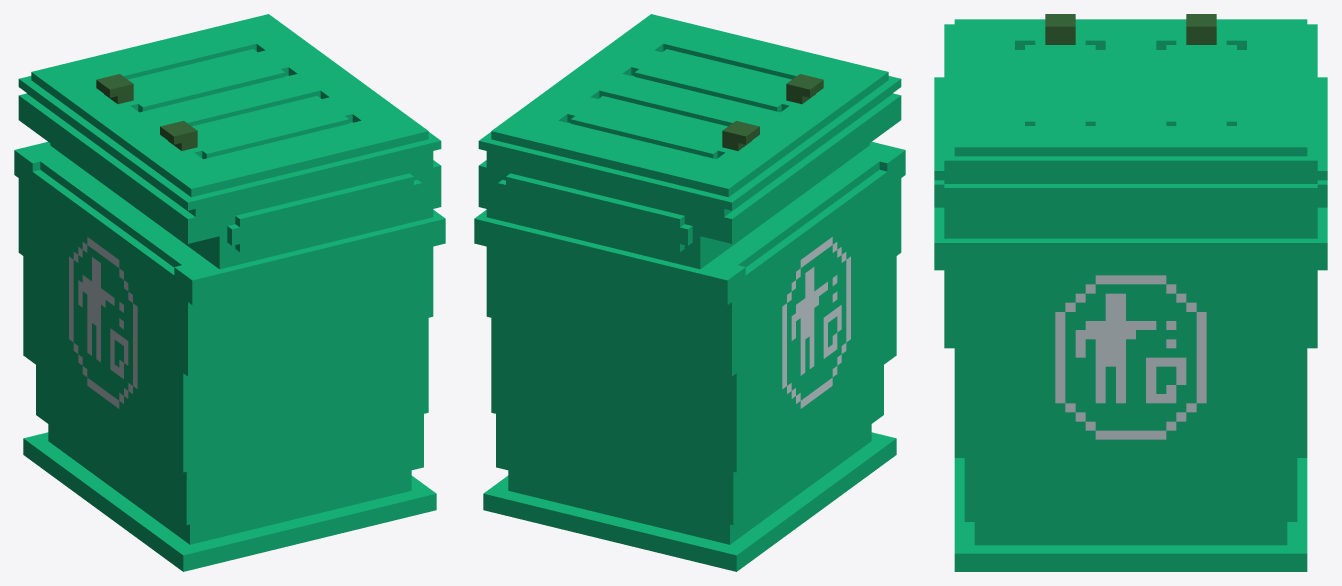
Rendered from trashBin2.obj.
3 renders of one model, left to right at view 1: azimuth 30°, elevation 25°; view 2: azimuth 150°, elevation 25°; view 3: azimuth 270°, elevation 25°, orthographic. The views are drawn at different scales.
Bounding box in the file's own units: 3.2 × 4.8 × 3.9.
